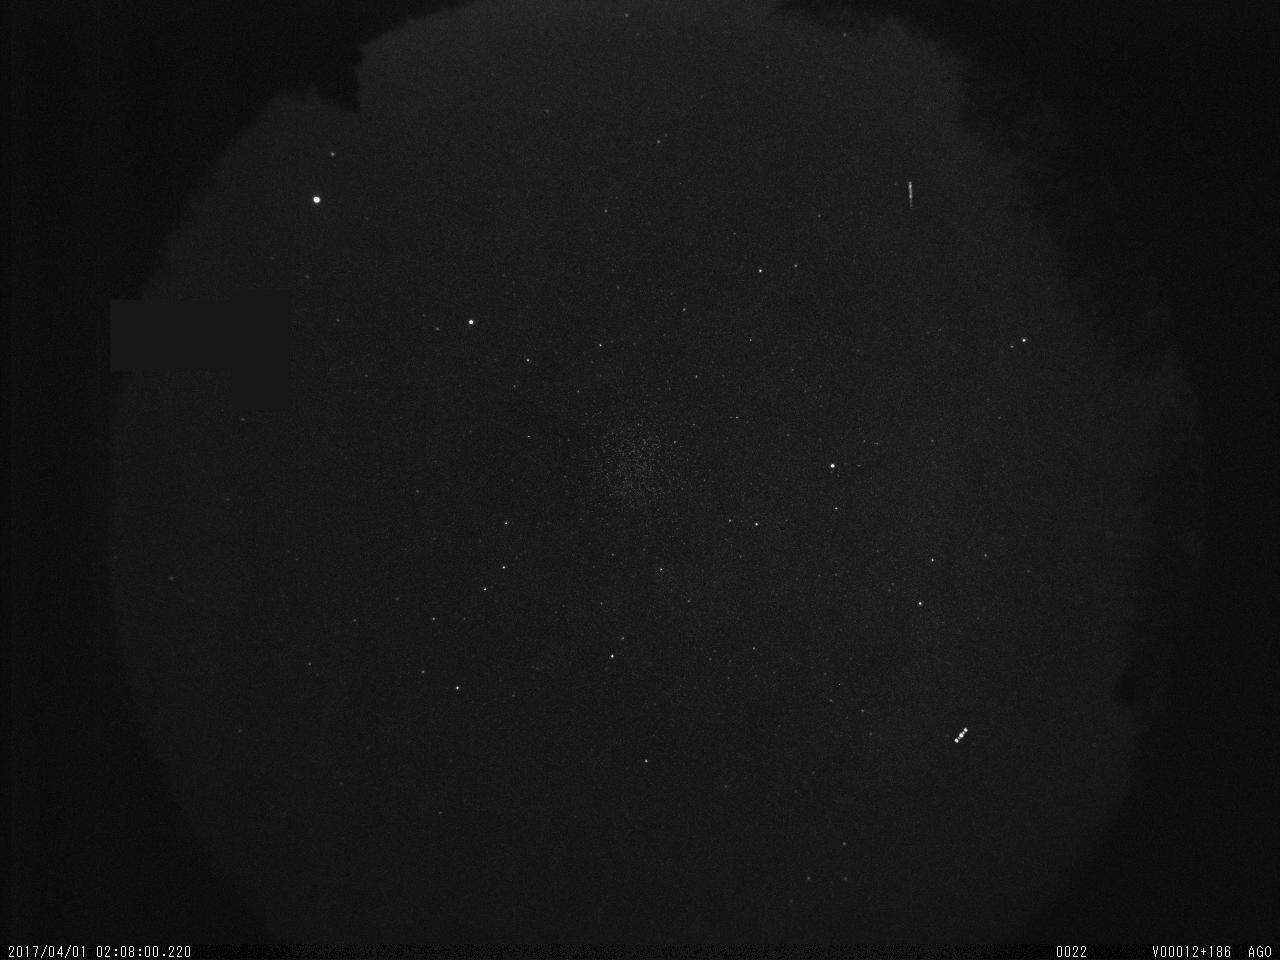meteor: (899, 174, 923, 210)
